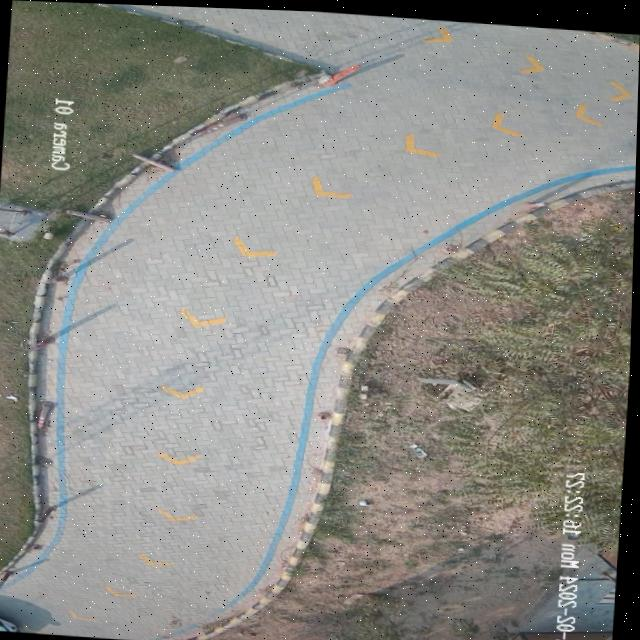car: (0, 616, 22, 631)
